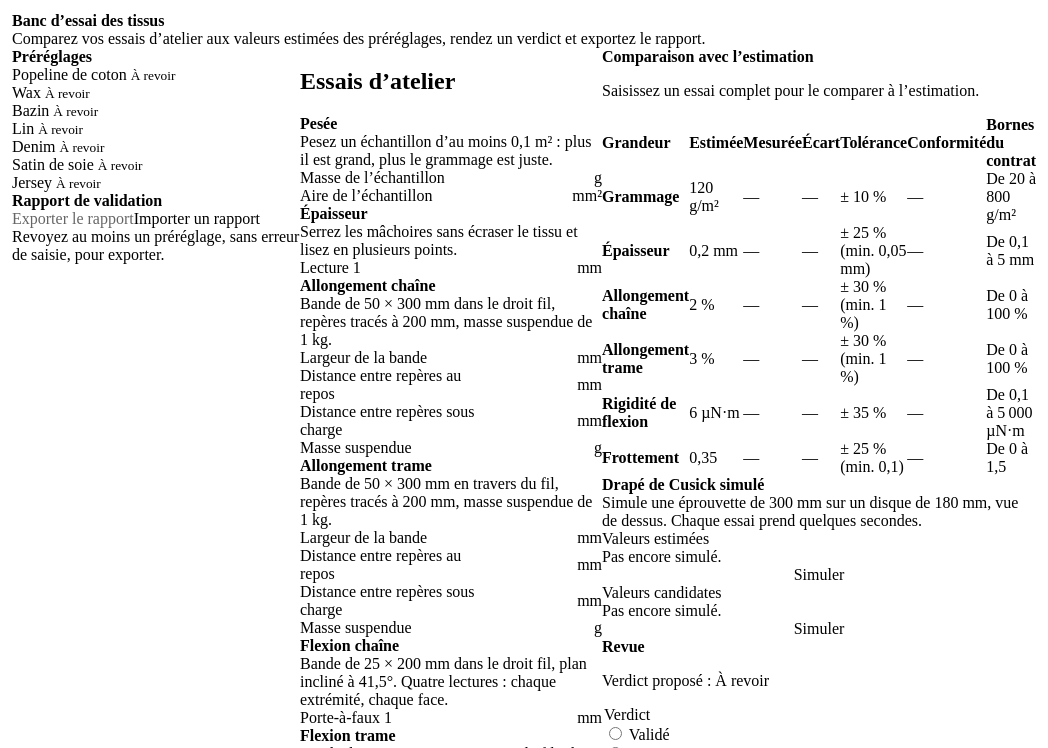
Scenario: banc d’essai des tissus : essais saisis › essai hors tolérance : verdict proposé « Corrigé », écart signalé
This screenshot has width=1048, height=748.
Type "24" into the number field labelled "Masse de l’échantillon". click: (542, 178)
box: [494, 169, 590, 187]
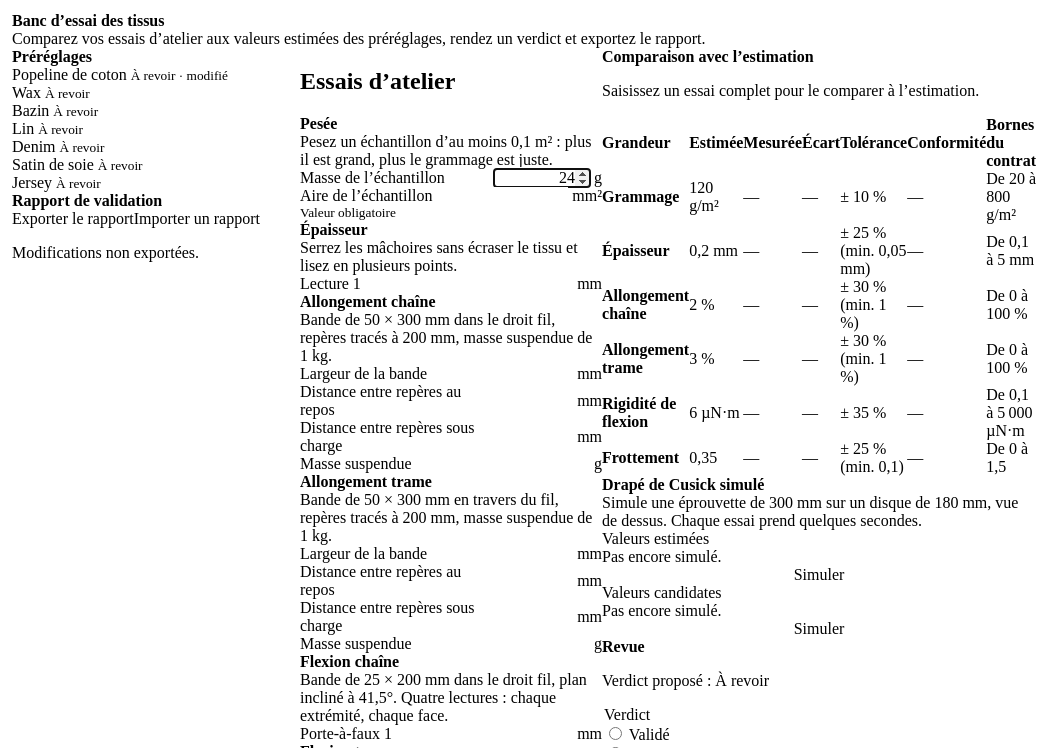
Type "100000" into the number field labelled "Aire de l’échantillon". click: (520, 196)
box: [472, 187, 568, 205]
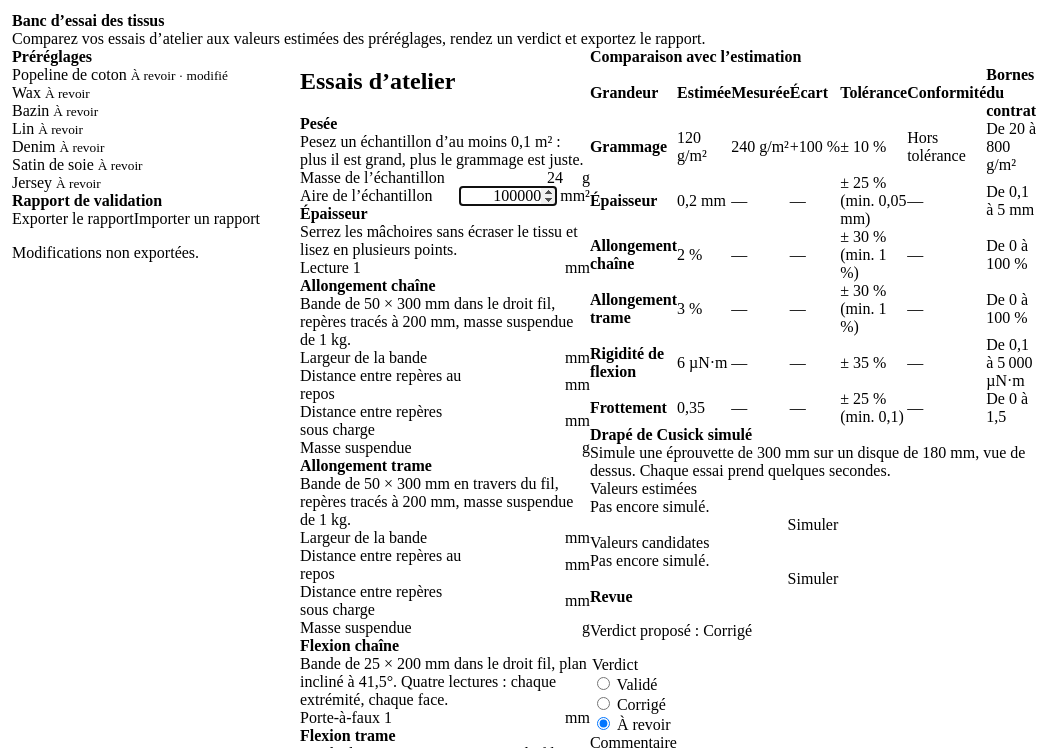
Result: the row "Grammage" shows "Hors tolérance" at [907, 129, 966, 164]
Result: the row "Grammage" shows "+100" at [790, 138, 840, 155]
Result: the text "Verdict proposé : Corrigé" is shown at [590, 622, 752, 639]
